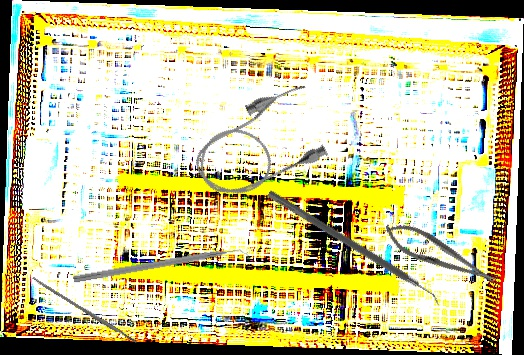Cannula: (180, 77, 338, 212)
Chopper: (72, 244, 253, 293)
Needle Holder: (378, 214, 502, 296)
Scalpel Handle: (31, 275, 138, 346)
Spatula Surgical: (262, 189, 446, 310)
